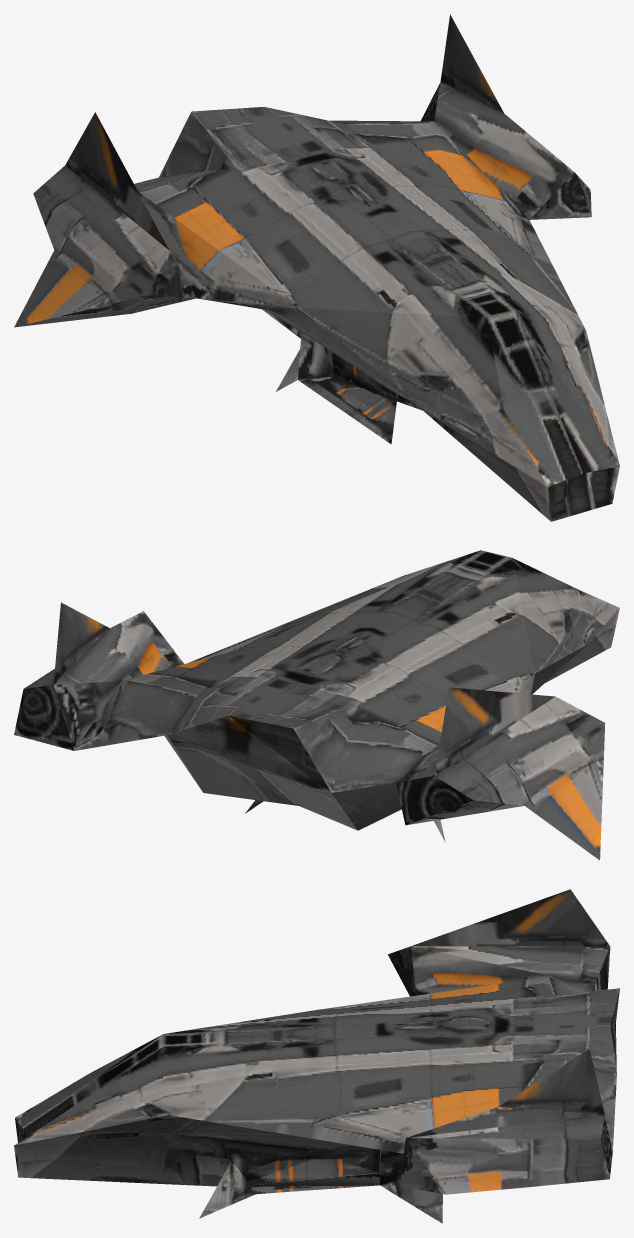
File: hard-150.glb
The picture shows the model from 3 angles, top to bottom: view 1: azimuth 30°, elevation 25°; view 2: azimuth 150°, elevation 25°; view 3: azimuth 270°, elevation 25°; orthographic projection. The views are drawn at different scales.
Visible parts, largest first — view 1: Low; view 2: Low; view 3: Low.
Part boxes in pixels (left/top/right/bottom): Low: left=14, top=14, right=619, bottom=521; Low: left=14, top=550, right=619, bottom=860; Low: left=14, top=889, right=619, bottom=1223.
Bounding box in the file's own units: 0.8719 × 0.3725 × 0.9419.
Materials: 1 (1 with a texture image).
